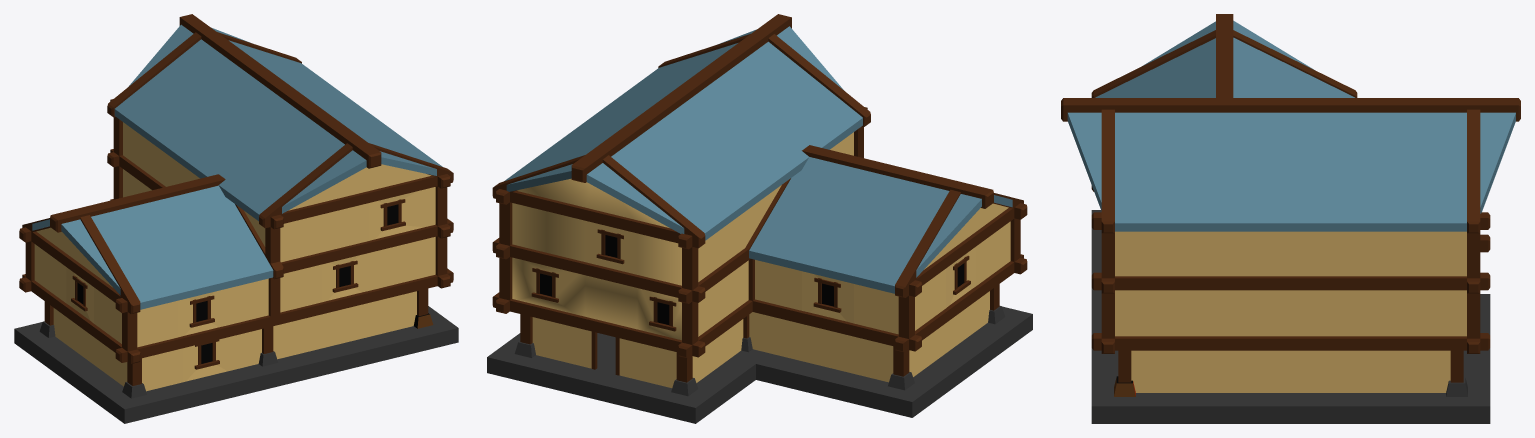
File: MBS_City_House02.fbx
3 renders of one model, left to right at view 1: azimuth 30°, elevation 25°; view 2: azimuth 150°, elevation 25°; view 3: azimuth 270°, elevation 25°, orthographic. The views are drawn at different scales.
Visible parts, largest first — view 1: Cube.483; view 2: Cube.483; view 3: Cube.483.
Boxes of the visible parts, left/top/right/bottom form: Cube.483: left=14, top=14, right=458, bottom=423; Cube.483: left=487, top=14, right=1032, bottom=423; Cube.483: left=1061, top=14, right=1520, bottom=423.
Bounding box in the file's own units: 2940 × 1768 × 2769.
